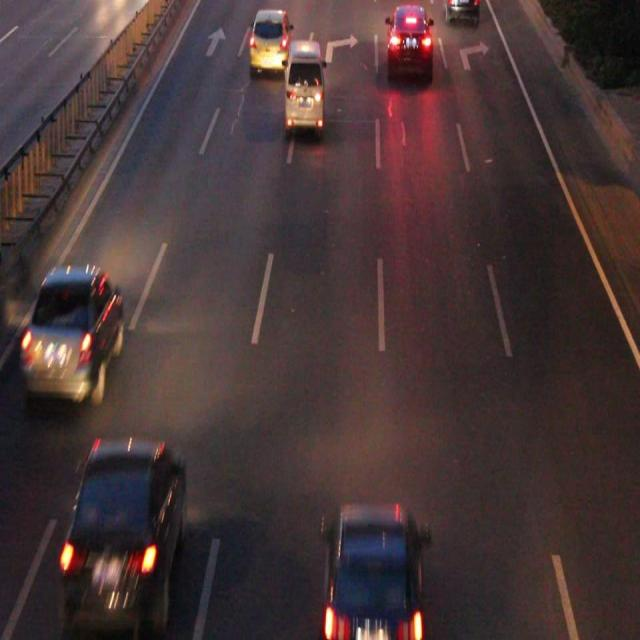car: (65, 440, 184, 616), (22, 269, 122, 396), (323, 505, 423, 630), (387, 8, 431, 79), (249, 10, 290, 68), (442, 1, 477, 20)
truck: (285, 42, 324, 129)
